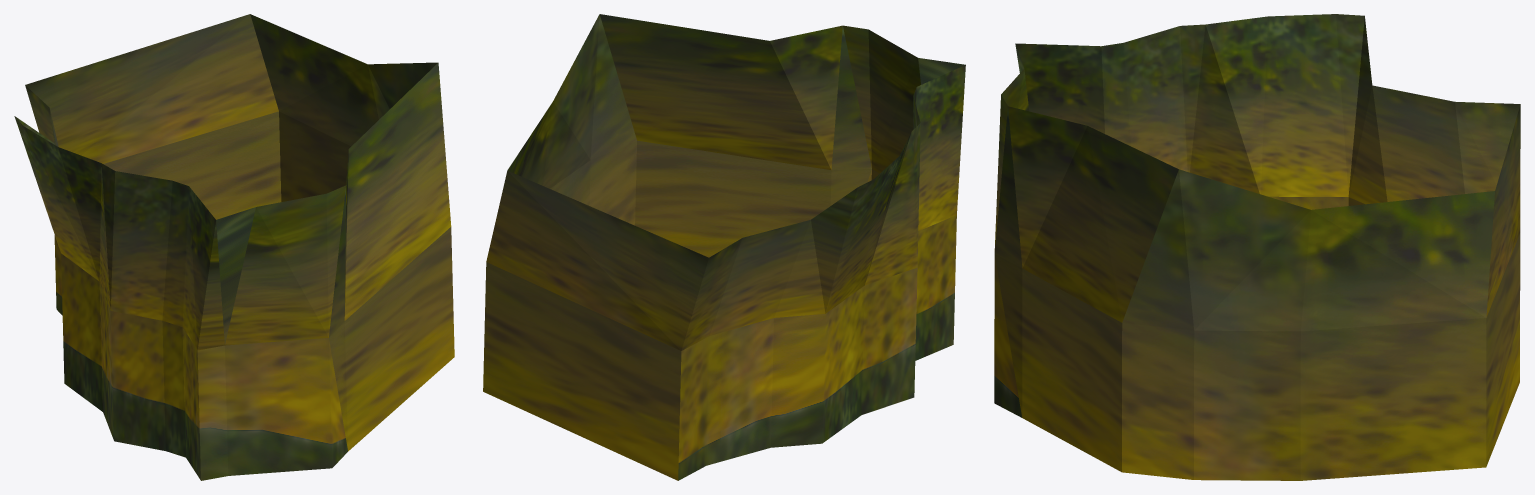
Rendered from Ridge_7_Lat.gltf.
The picture shows the model from 3 angles, left to right: view 1: azimuth 30°, elevation 25°; view 2: azimuth 150°, elevation 25°; view 3: azimuth 270°, elevation 25°; orthographic projection. The views are drawn at different scales.
Parts seen in each view (by area): view 1: Ridge_7_Lat; view 2: Ridge_7_Lat; view 3: Ridge_7_Lat.
Part boxes in pixels (x1,y1,x2,y2): Ridge_7_Lat: (14,14,454,480); Ridge_7_Lat: (483,14,965,480); Ridge_7_Lat: (994,14,1520,480).
Size of the model in its own units: 47.84 by 39.44 by 55.02.
Materials: 1 (1 with a texture image).
